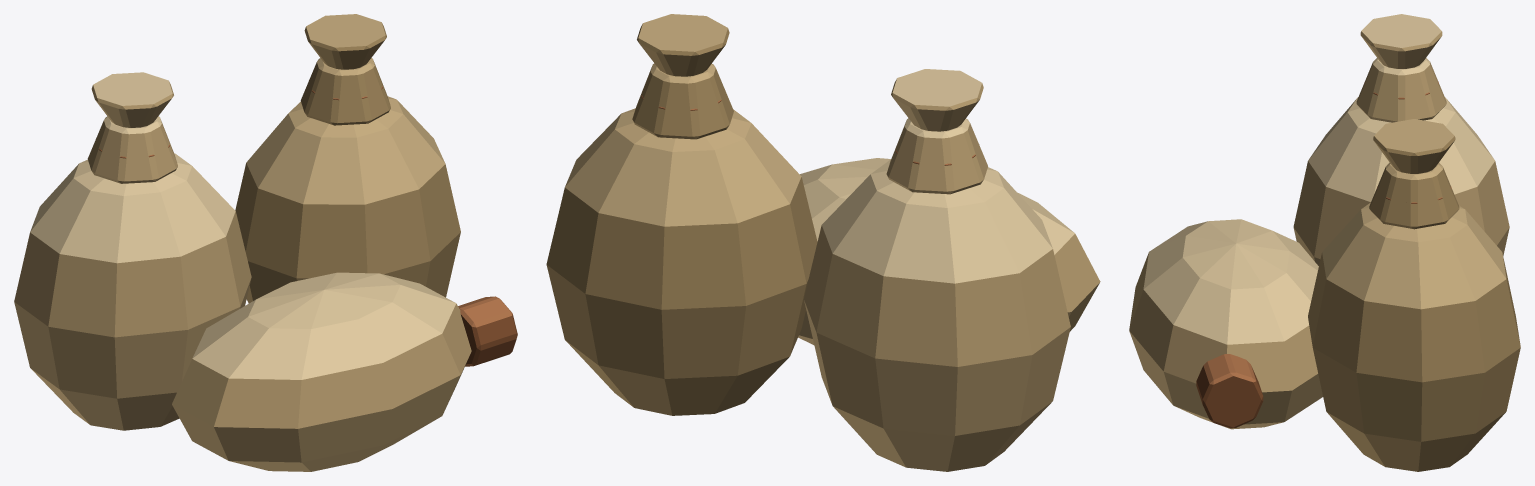
Rendered from sacos.fbx.
3 renders of one model, left to right at view 1: azimuth 30°, elevation 25°; view 2: azimuth 150°, elevation 25°; view 3: azimuth 270°, elevation 25°, orthographic. The views are drawn at different scales.
Visible parts, largest first — view 1: sacos; view 2: sacos; view 3: sacos.
Boxes of the visible parts, x1=… form: sacos: x1=14, y1=14, x2=517, y2=471; sacos: x1=546, y1=14, x2=1100, y2=471; sacos: x1=1129, y1=14, x2=1520, y2=471.
Size of the model in its own units: 75.85 by 57 by 61.58.
